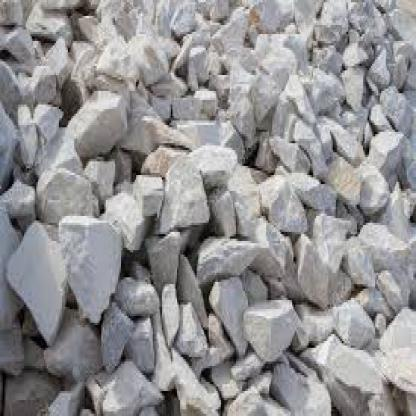Metamorphic_Marble: (58, 207, 127, 332), (3, 220, 70, 348), (304, 320, 386, 402), (340, 216, 410, 293), (154, 145, 214, 232), (68, 84, 127, 159), (197, 218, 263, 284), (256, 161, 310, 241), (98, 175, 154, 246), (172, 332, 219, 414), (242, 293, 297, 359), (372, 307, 415, 384), (294, 230, 332, 312), (154, 270, 185, 348)
